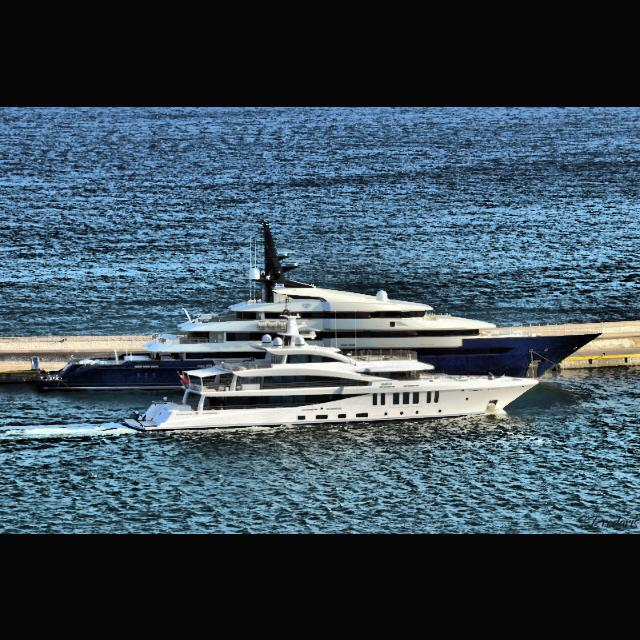yacht: (32, 220, 604, 394), (122, 314, 538, 432)
